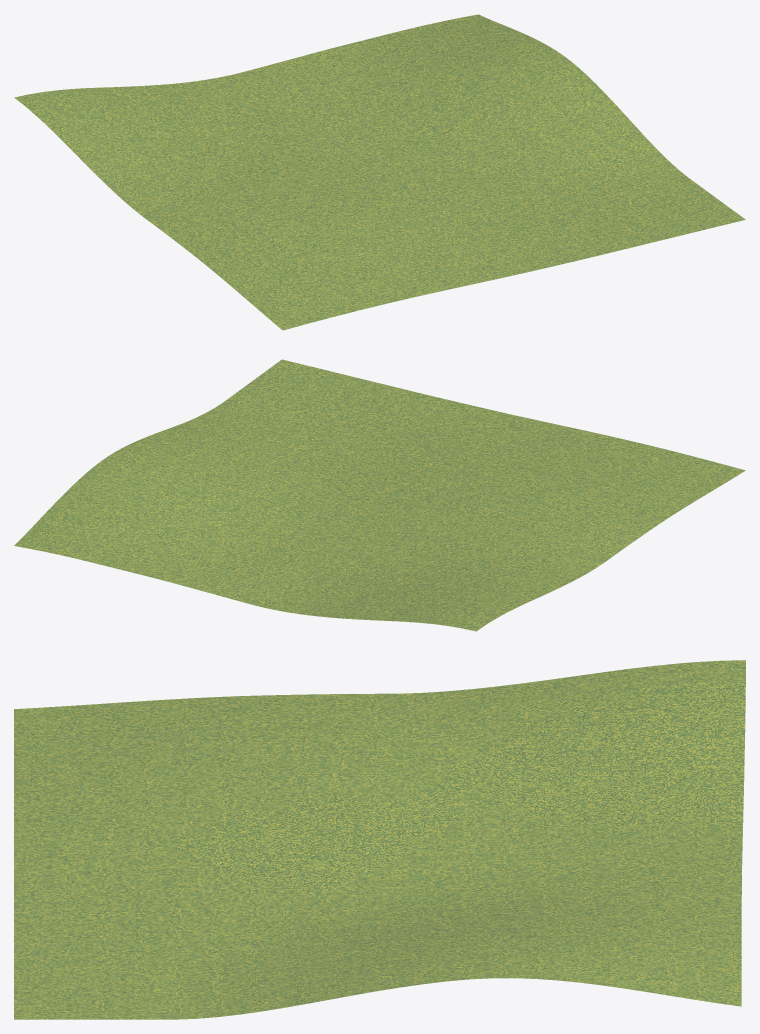
The model's file is grass.glb.
3 views of the same model, one above another, from view 1: azimuth 30°, elevation 25°; view 2: azimuth 150°, elevation 25°; view 3: azimuth 270°, elevation 25° (orthographic). The views are drawn at different scales.
Parts seen in each view (by area): view 1: Plane; view 2: Plane; view 3: Plane.
Part boxes in pixels (bbox=[...]): Plane: bbox=[14, 14, 745, 330]; Plane: bbox=[14, 359, 745, 631]; Plane: bbox=[14, 660, 745, 1019].
Size of the model in its own units: 16 by 1.26 by 16.09.
Materials: 1 (1 with a texture image).
